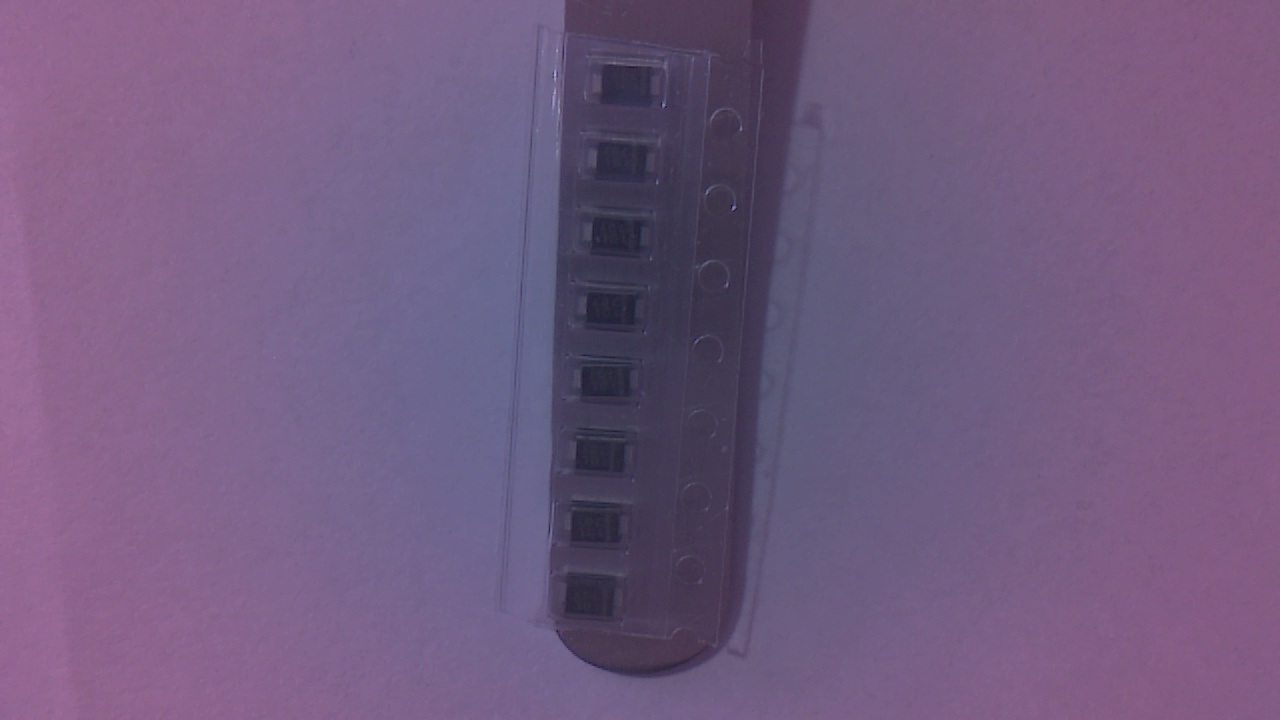Diode: (591, 66, 669, 113), (587, 216, 659, 262), (587, 145, 663, 188), (560, 581, 631, 624), (565, 507, 636, 549), (580, 293, 648, 334), (575, 364, 644, 402), (571, 437, 641, 474)
